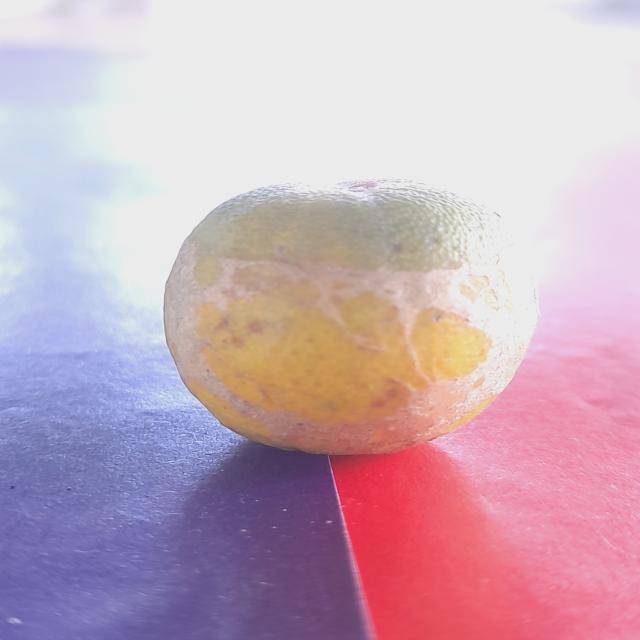thrips: (149, 176, 546, 469)
